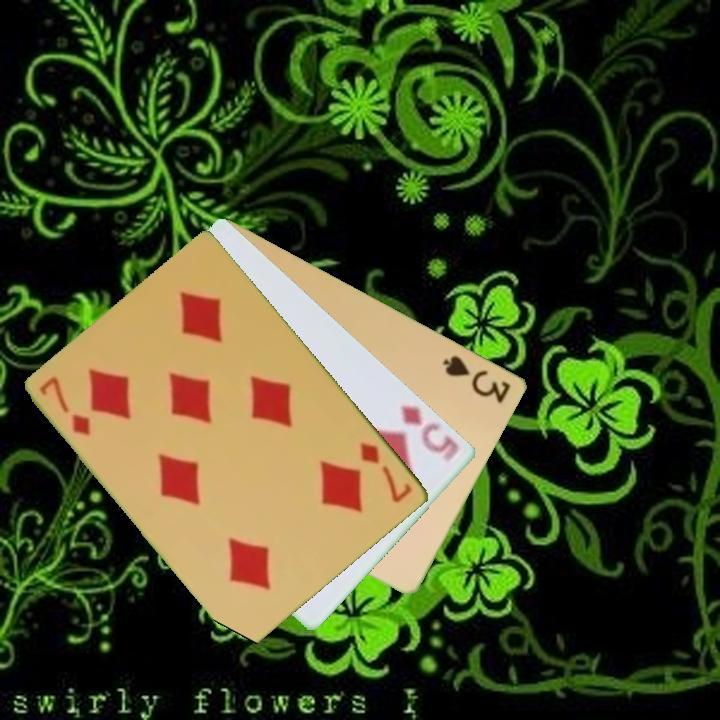3s: (439, 351, 514, 406)
5d: (397, 401, 463, 464)
7d: (356, 438, 416, 506), (36, 373, 95, 439)
